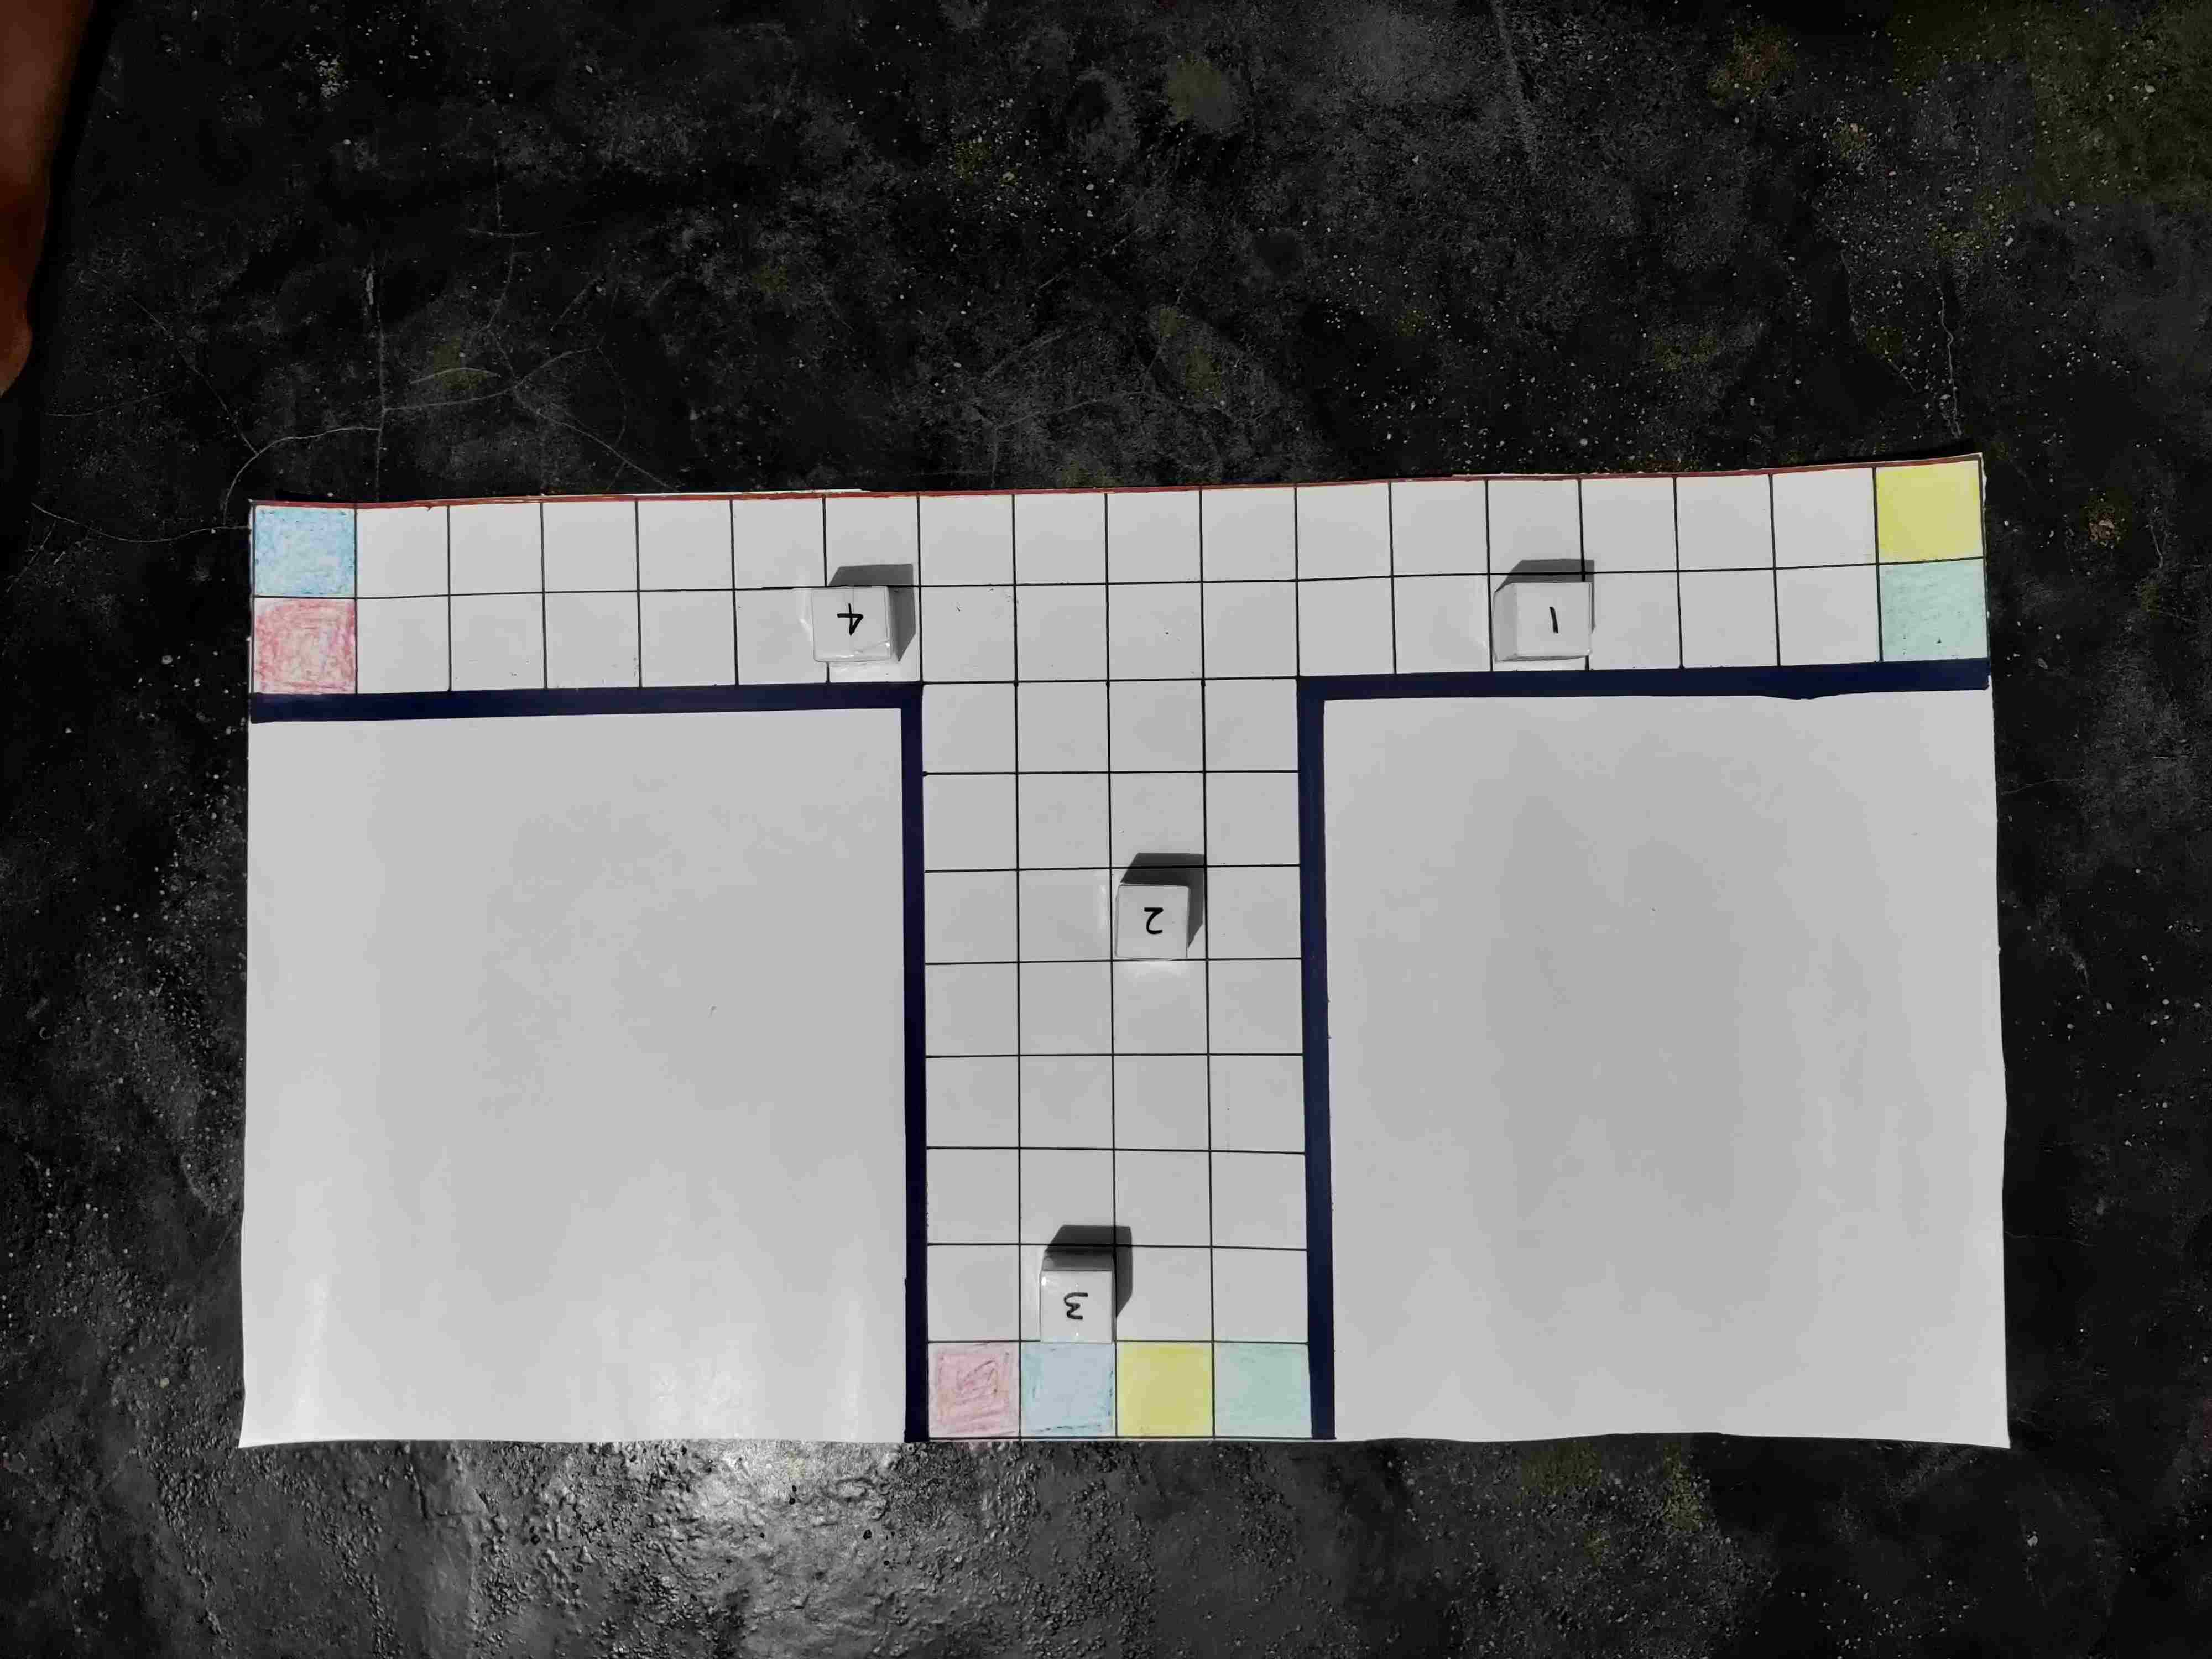arena: (244, 458, 1986, 1448)
bot: (1512, 577, 1592, 659), (1038, 1263, 1115, 1342), (1115, 880, 1188, 958), (817, 584, 890, 659)
